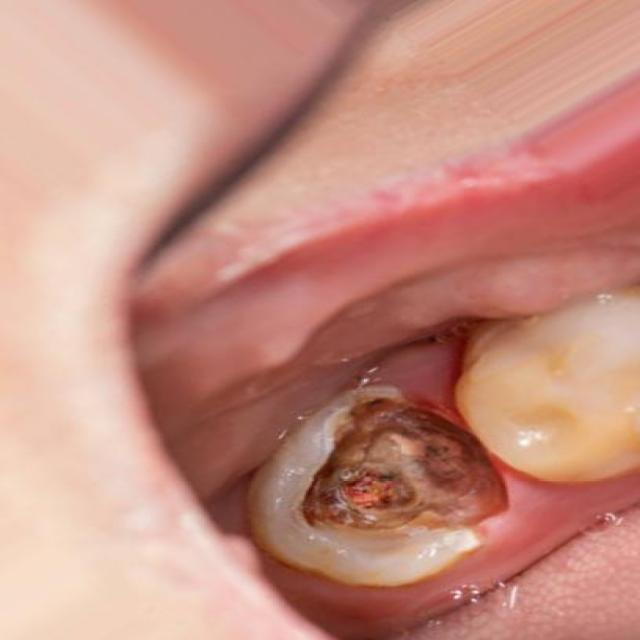caries: (275, 384, 526, 562)
